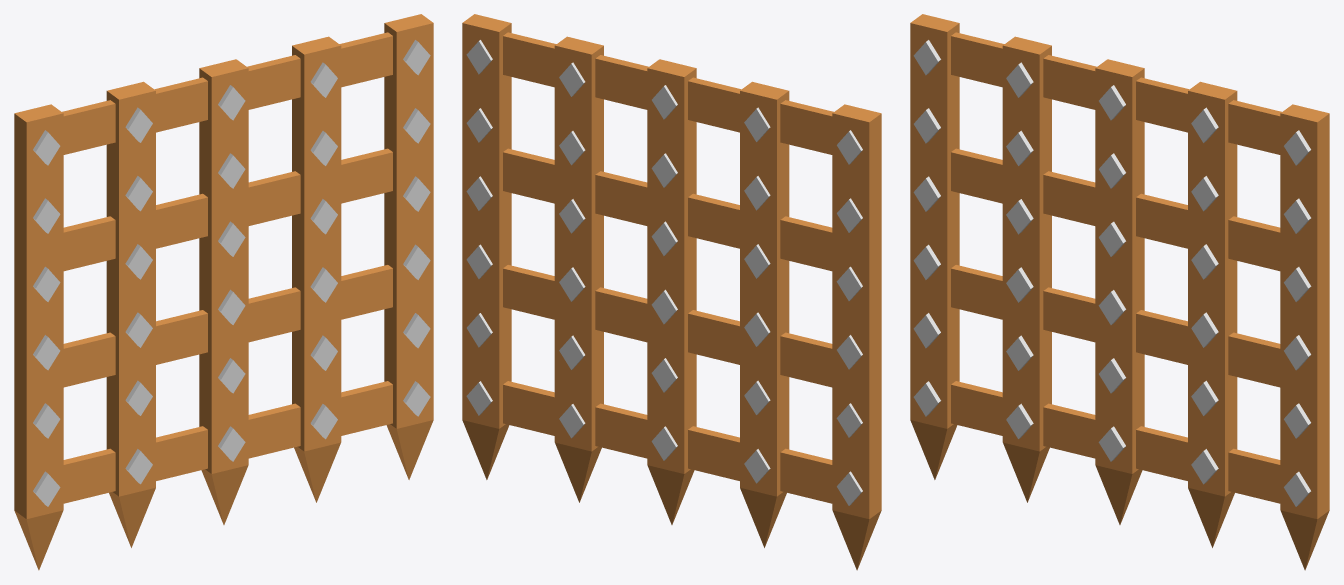
Rendered from BigTownGate.fbx.
3 renders of one model, left to right at view 1: azimuth 30°, elevation 25°; view 2: azimuth 150°, elevation 25°; view 3: azimuth 330°, elevation 25°, orthographic.
Visible parts, largest first — view 1: Cube.135; view 2: Cube.135; view 3: Cube.135.
Boxes of the visible parts, bbox=[...] form: Cube.135: bbox=[14, 14, 433, 570]; Cube.135: bbox=[462, 14, 881, 570]; Cube.135: bbox=[910, 14, 1329, 570].
Bounding box in the file's own units: 2200 × 2363 × 161.
